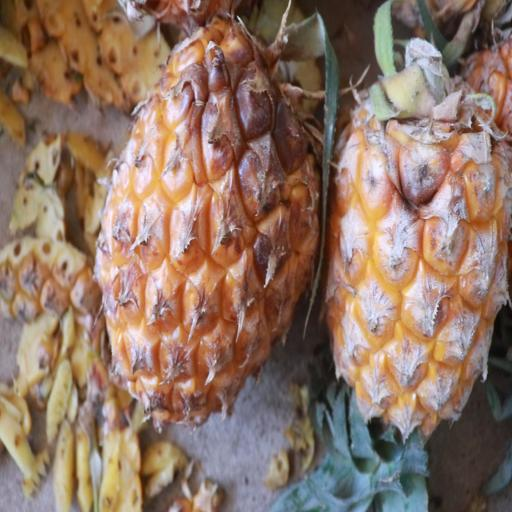Pineapple - v8 v1: (91, 4, 326, 429), (324, 25, 512, 487)
